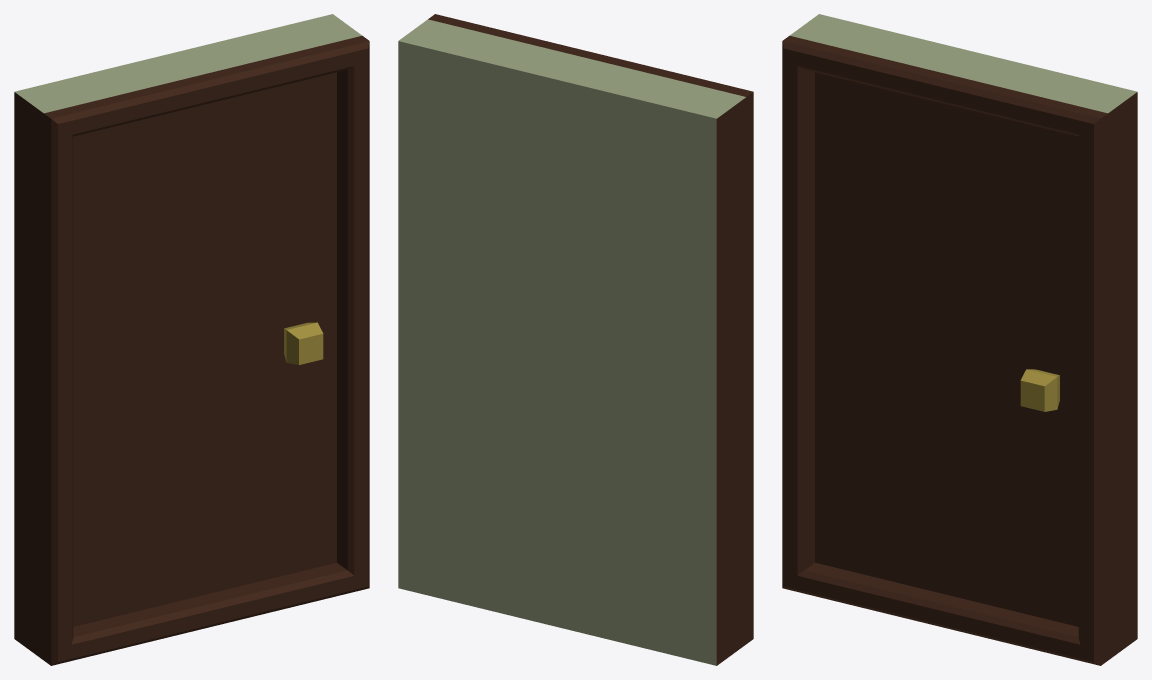
3 renders of one model, left to right at view 1: azimuth 30°, elevation 25°; view 2: azimuth 150°, elevation 25°; view 3: azimuth 330°, elevation 25°, orthographic.
Parts seen in each view (by area): view 1: Cube.001; view 2: Cube.001; view 3: Cube.001.
Part boxes in pixels (box(x1,y1,x2,y2)): Cube.001: box(14, 14, 369, 665); Cube.001: box(398, 14, 753, 665); Cube.001: box(782, 14, 1137, 665).
Size of the model in its own units: 382 by 627 by 86.69.
